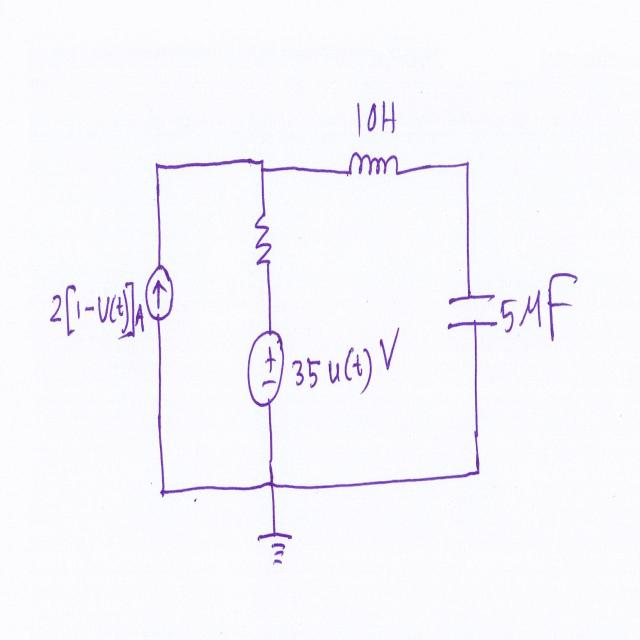capacitor: (442, 287, 499, 339)
current_source: (140, 252, 181, 327)
ground: (253, 520, 302, 585)
inductor: (339, 150, 404, 189)
resistor: (251, 208, 277, 272)
voltage_source: (246, 316, 289, 413)
